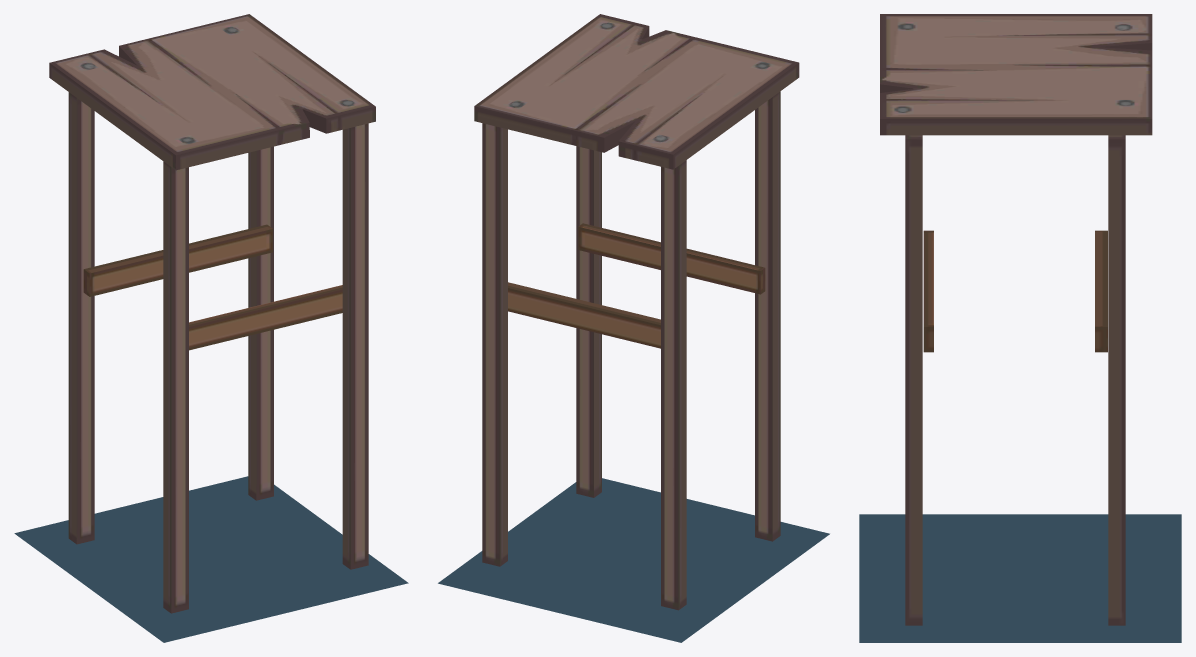
File: DarkForest_Chair.glb
The picture shows the model from 3 angles, left to right: view 1: azimuth 30°, elevation 25°; view 2: azimuth 150°, elevation 25°; view 3: azimuth 270°, elevation 25°; orthographic projection. The views are drawn at different scales.
Parts seen in each view (by area): view 1: DarkForest_Chair, Chair_Shadow; view 2: DarkForest_Chair, Chair_Shadow; view 3: DarkForest_Chair, Chair_Shadow.
Part boxes in pixels (x1,y1,x2,y2): DarkForest_Chair: [49, 14, 375, 613]; Chair_Shadow: [14, 476, 408, 642]; DarkForest_Chair: [474, 14, 799, 610]; Chair_Shadow: [438, 478, 829, 642]; DarkForest_Chair: [880, 14, 1152, 625]; Chair_Shadow: [859, 514, 1181, 642].
Size of the model in its own units: 1.05 by 1.95 by 1.12.
Materials: 2 (2 with a texture image).
